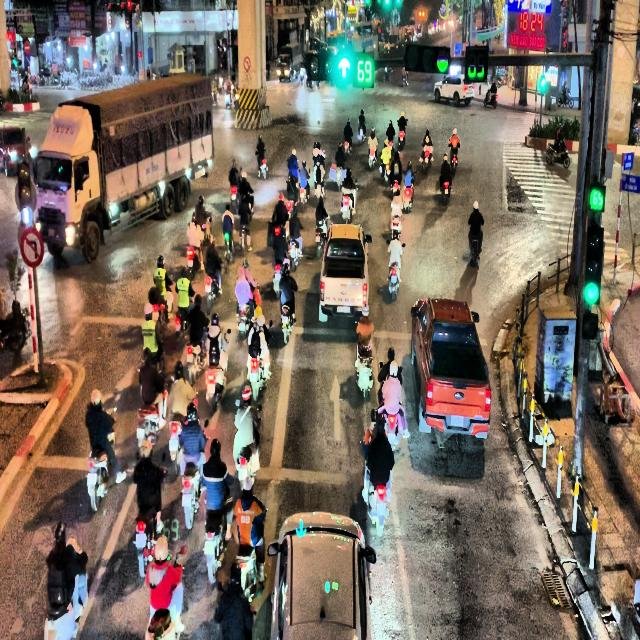lisence_plate: (448, 413, 465, 428), (334, 305, 353, 315)
